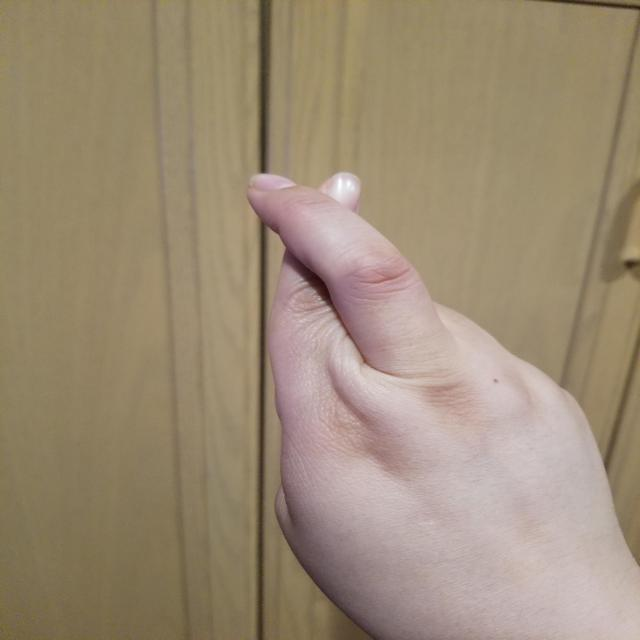R: (237, 166, 632, 640)
